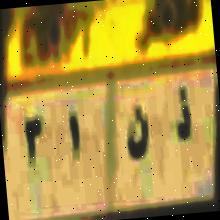1: (61, 101, 94, 171)
3: (16, 103, 54, 175)
noon: (120, 102, 156, 169)
zaal: (168, 81, 199, 154)
